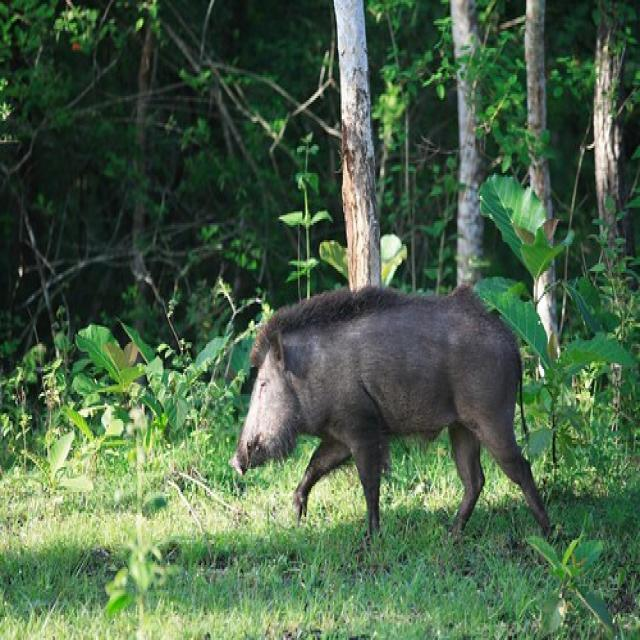boar: (207, 274, 548, 560)
